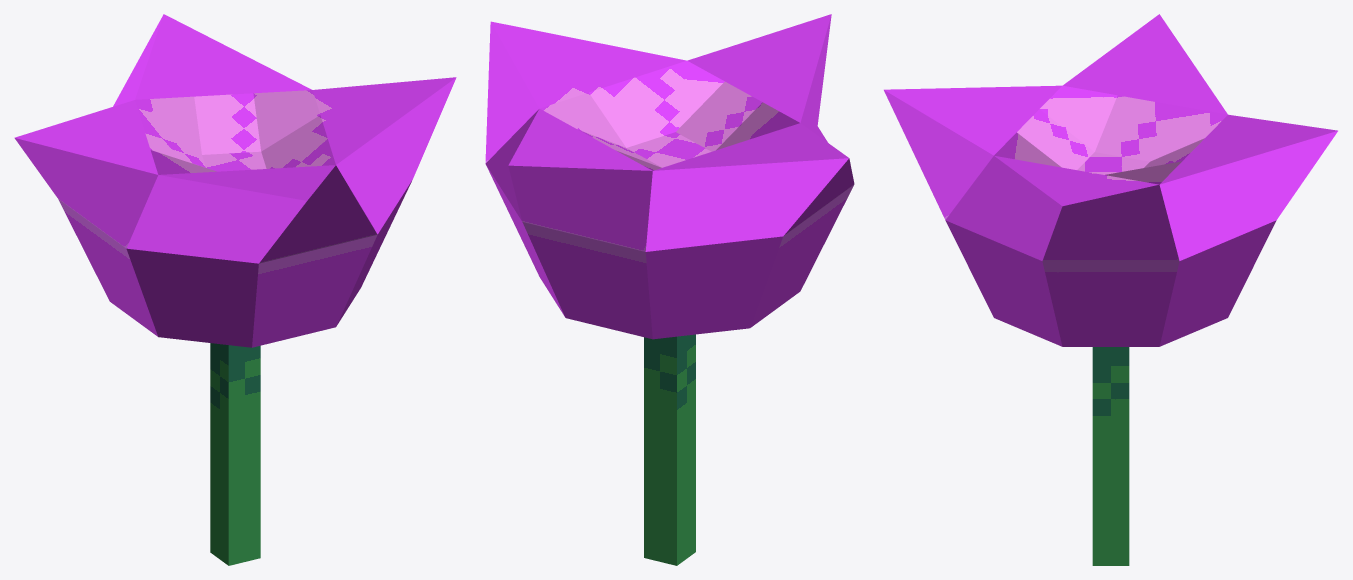
File: rose.gltf
3 views of the same model, side by side, from view 1: azimuth 30°, elevation 25°; view 2: azimuth 150°, elevation 25°; view 3: azimuth 270°, elevation 25° (orthographic). The views are drawn at different scales.
Visible parts, largest first — view 1: sphere, cuboid; view 2: sphere, cuboid; view 3: sphere, cuboid.
Boxes of the visible parts, x1=… form: sphere: x1=14, y1=14, x2=456, y2=347; cuboid: x1=210, y1=343, x2=260, y2=565; sphere: x1=485, y1=14, x2=854, y2=339; cuboid: x1=644, y1=334, x2=695, y2=565; sphere: x1=884, y1=14, x2=1337, y2=346; cuboid: x1=1092, y1=347, x2=1129, y2=565.
Size of the model in its own units: 0.7727 by 0.8395 by 0.7727.
Materials: 1 (1 with a texture image).
